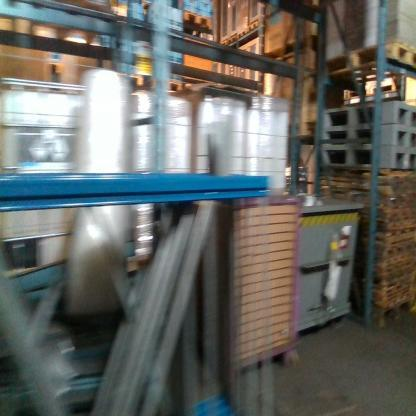pallets: (351, 286, 415, 329), (171, 9, 212, 31)
